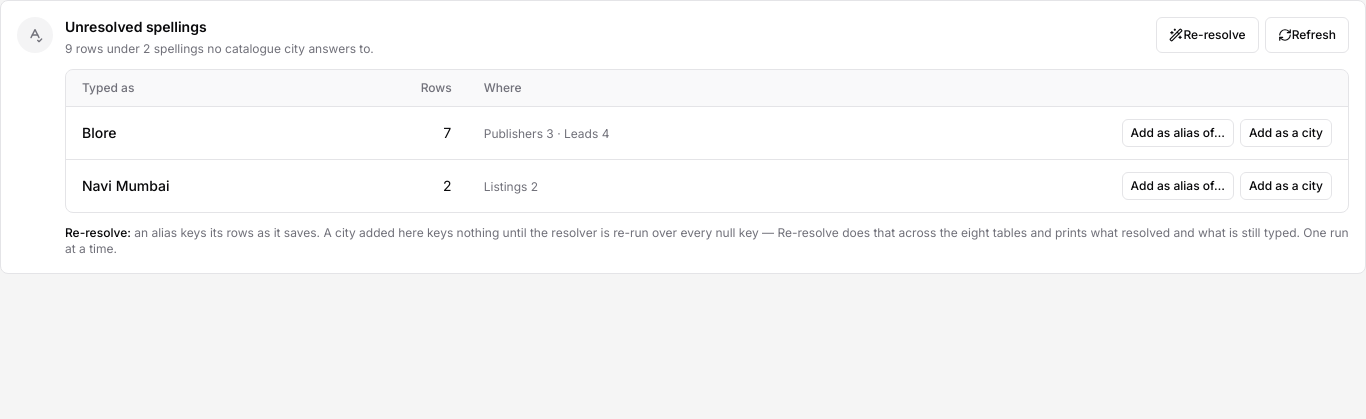
Test: the card › Re-resolve POSTs the backfill, prints the per-table report and re-reads
Expected: the text "Blore" is shown, left=82, top=124, right=116, bottom=141
Click the button with aria-label "Re-resolve every null city key": click(1208, 35) left=1156, top=17, right=1259, bottom=53
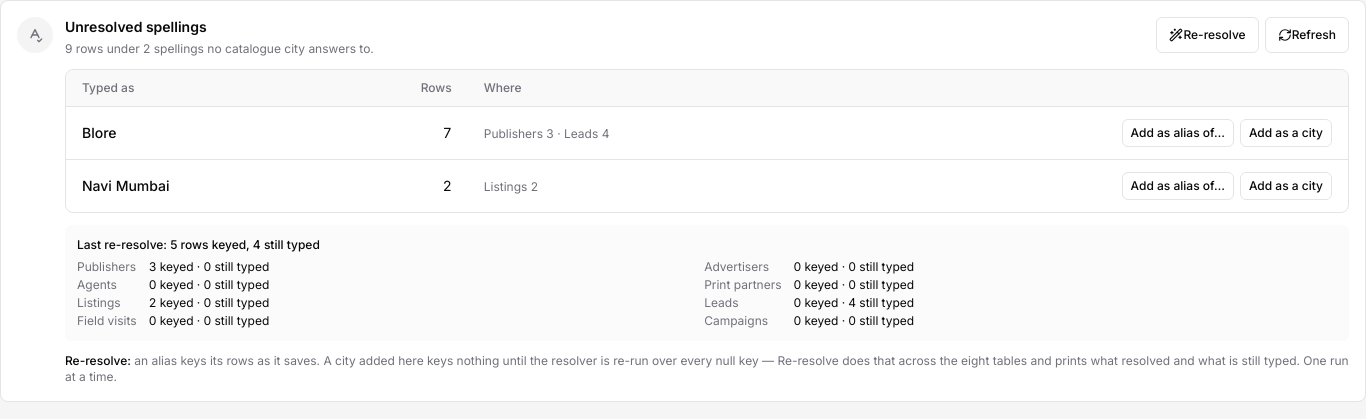
Result: the element with test id "backfill-report" shows "Last re-resolve: 5 rows keyed, 4 still typed" at left=65, top=225, right=1349, bottom=341
Result: the element with test id "backfill-report" shows "Leads" at left=704, top=295, right=738, bottom=310
Result: the element with test id "backfill-report" shows "0 keyed · 4 still typed" at left=65, top=225, right=1349, bottom=341
